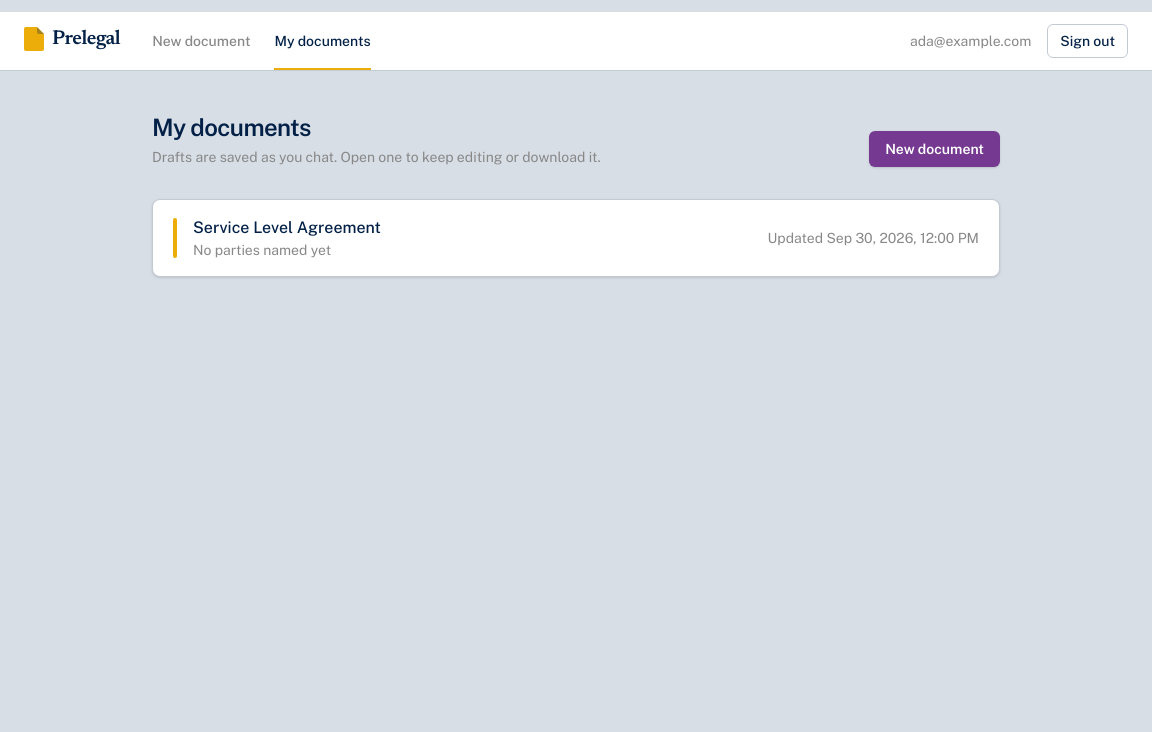
Test: App › reopens a saved draft under My documents
Click the button "Service Level Agreement" at (287, 228), box [153, 200, 999, 276]
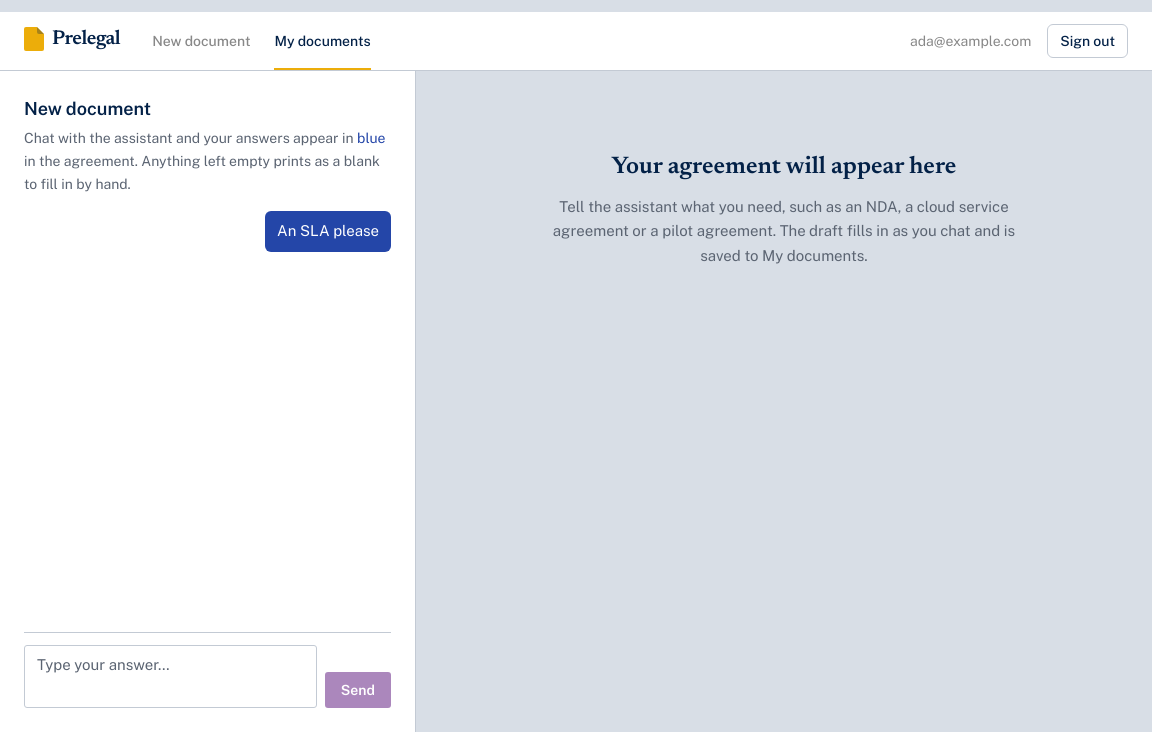
Expected: the text "An SLA please" is shown, [265, 211, 391, 252]
